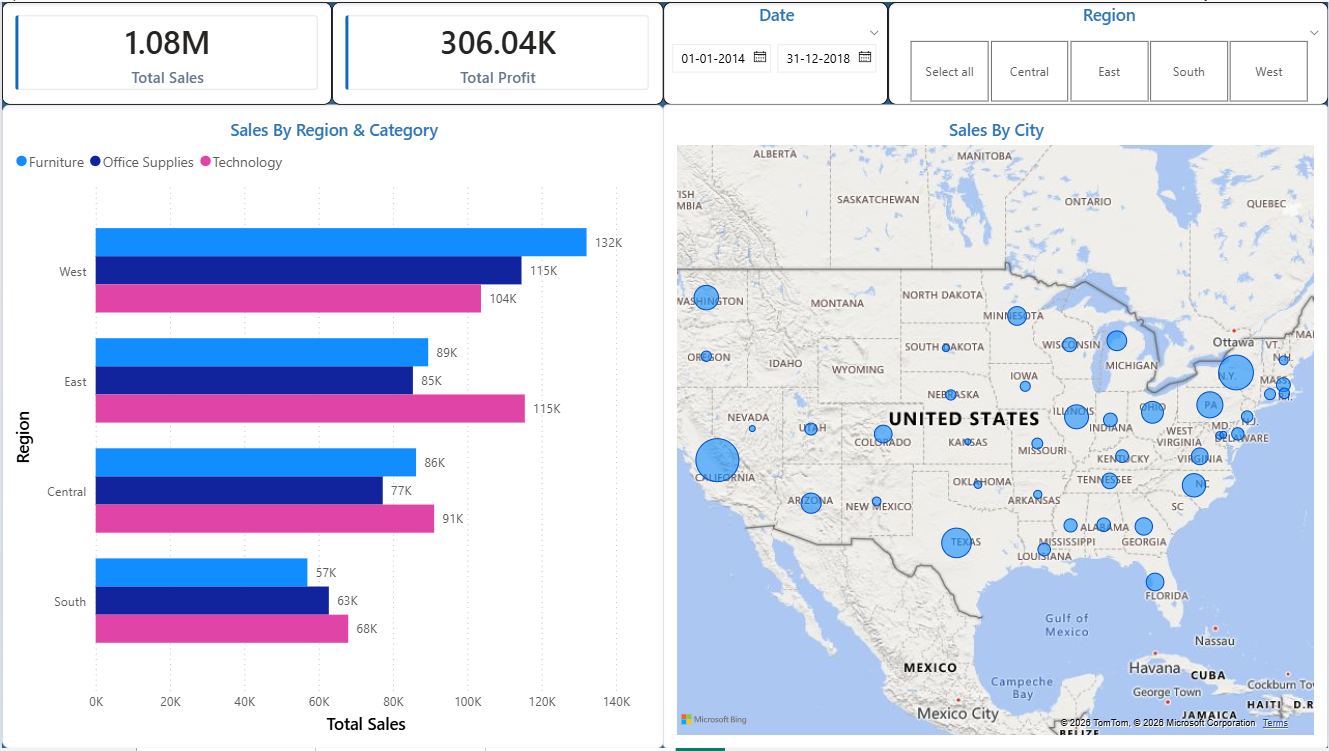

The dashboard page shown, as its layout file describes it:
{"tool":"powerbi","page":{"name":"Regional Analysis","canvas":[1280,720],"ordinal":1},"visuals":[{"type":"slicer","title":"Date","fields":{"Values":["Date_Table.Date"]},"box":[638.2,0,217.2,98.9],"z":0},{"type":"clusteredBarChart","title":"Sales By Region & Category","fields":{"Category":["Customers.Location Hierarchy.Region","Customers.Location Hierarchy.State","Customers.Location Hierarchy.City"],"Y":["_Measures.Total Sales"],"Series":["Products.Category"]},"box":[0,98.9,639.4,621.3],"z":1000},{"type":"slicer","title":"Region","fields":{"Values":["Customers.Region"]},"box":[855.4,0,424.7,98.9],"z":2000},{"type":"cardVisual","fields":{"Data":["_Measures.Total Profit"]},"box":[318.5,0,319.7,98.9],"z":3000},{"type":"cardVisual","fields":{"Data":["_Measures.Total Sales"]},"box":[0,0,318.5,98.9],"z":4000},{"type":"map","title":"Sales By City","fields":{"Category":["Customers.State"],"Size":["_Measures.Total Sales"]},"box":[638.6,98.6,641.4,621.4],"z":5000}]}

Visuals, with their boxes in screenshot pixels (x1, y1, x2, y2), scaled from the page's 1280x720 canvas onto the 1329x751 screenshot:
"Date" slicer: {"x1": 663, "y1": 0, "x2": 888, "y2": 103}
"Sales By Region & Category" clusteredBarChart: {"x1": 0, "y1": 103, "x2": 664, "y2": 750}
"Region" slicer: {"x1": 888, "y1": 0, "x2": 1328, "y2": 103}
cardVisual - _Measures.Total Profit: {"x1": 331, "y1": 0, "x2": 663, "y2": 103}
cardVisual - _Measures.Total Sales: {"x1": 0, "y1": 0, "x2": 331, "y2": 103}
"Sales By City" map: {"x1": 663, "y1": 103, "x2": 1328, "y2": 750}
